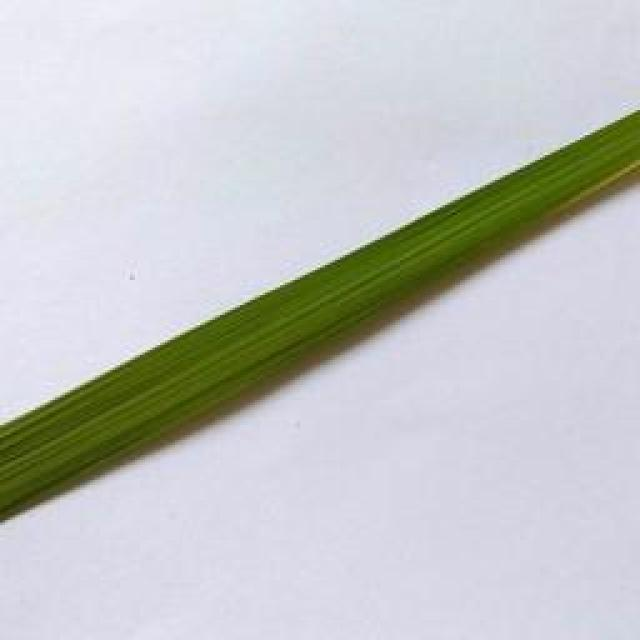Bacterial_Blight: (546, 156, 640, 222)
